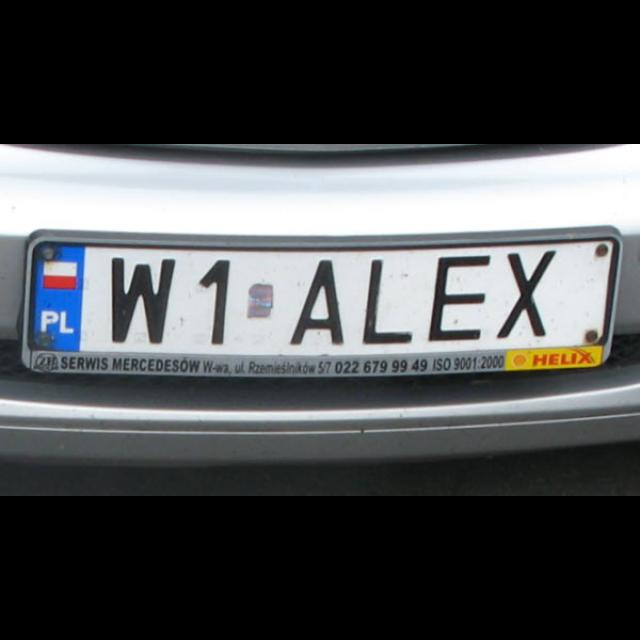pl_license_plate: (31, 244, 611, 350)
